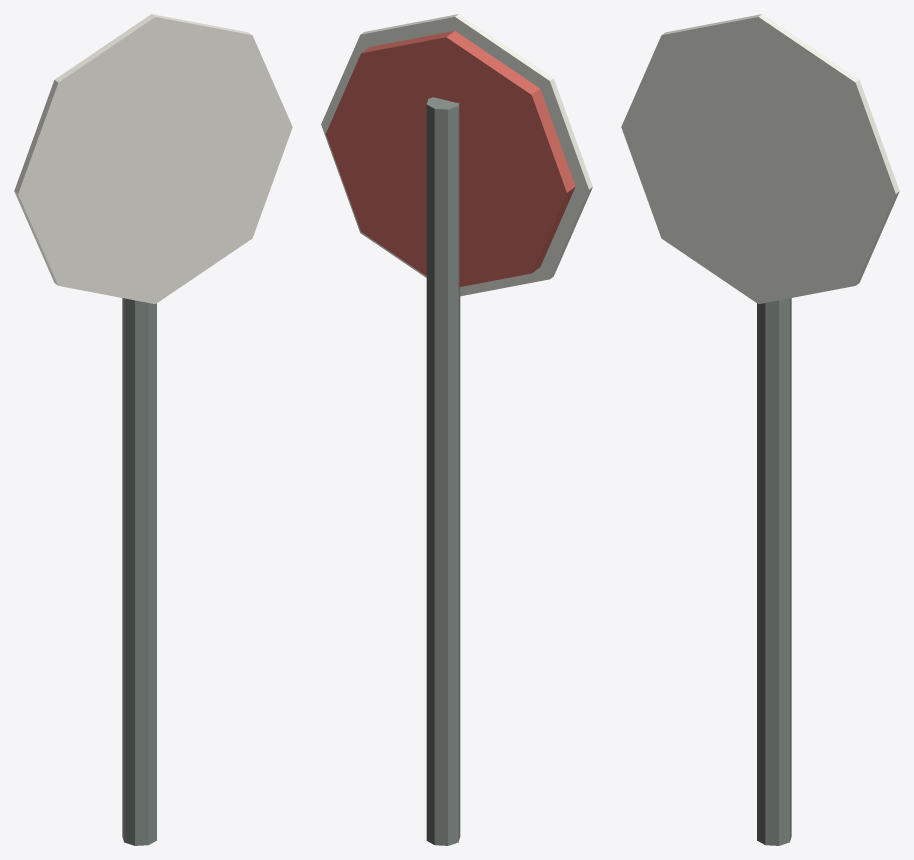
File: stop-sign-lod0.glb
3 renders of one model, left to right at view 1: azimuth 30°, elevation 25°; view 2: azimuth 150°, elevation 25°; view 3: azimuth 330°, elevation 25°, orthographic. The views are drawn at different scales.
Visible parts, largest first — view 1: sign_border, post; view 2: sign_face, post, sign_border; view 3: sign_border, post.
Part boxes in pixels (left/top/right/bottom): sign_border: left=14, top=14, right=292, bottom=304; post: left=122, top=298, right=156, bottom=845; sign_face: left=326, top=31, right=575, bottom=286; post: left=426, top=97, right=460, bottom=845; sign_border: left=321, top=14, right=592, bottom=296; sign_border: left=621, top=14, right=899, bottom=304; post: left=757, top=298, right=791, bottom=845.
Bounding box in the file's own units: 0.8 × 2.32 × 0.125.
